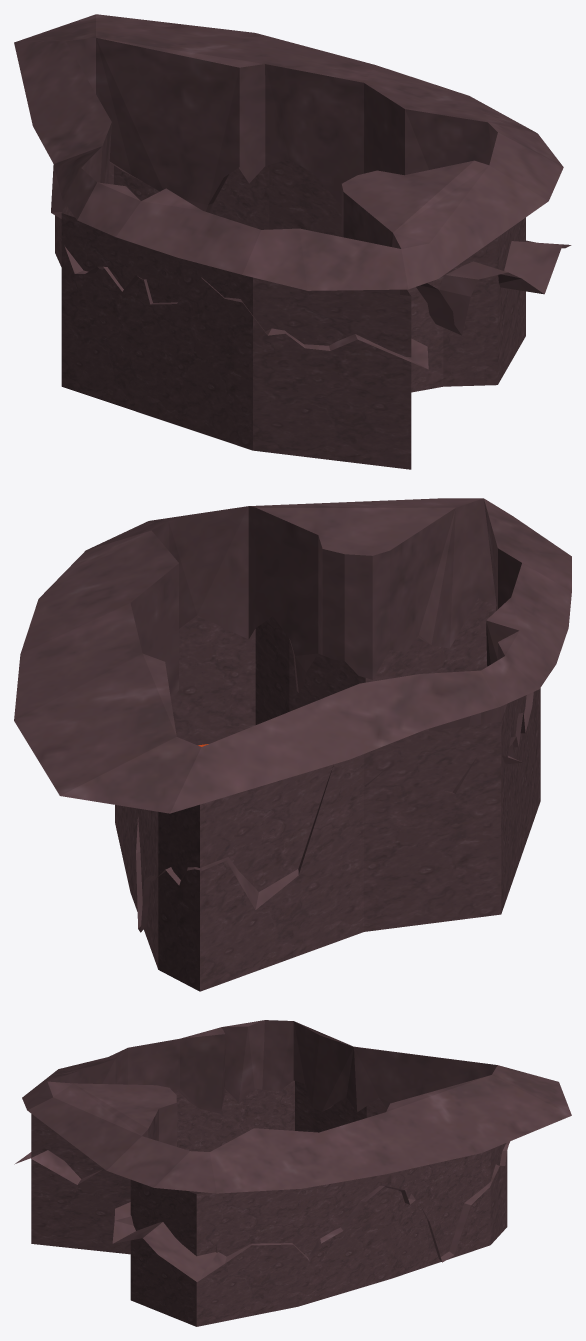
Rendered from yandong_01.FBX.
3 views of the same model, one above another, from view 1: azimuth 30°, elevation 25°; view 2: azimuth 150°, elevation 25°; view 3: azimuth 270°, elevation 25° (orthographic). The views are drawn at different scales.
Parts seen in each view (by area): view 1: yandong_01a, yandong_01b; view 2: yandong_01a, yandong_01b; view 3: yandong_01a, yandong_01b.
Boxes of the visible parts, x1=… form: yandong_01a: x1=14, y1=14, x2=571, y2=369; yandong_01b: x1=55, y1=159, x2=525, y2=469; yandong_01a: x1=14, y1=498, x2=571, y2=932; yandong_01b: x1=115, y1=598, x2=540, y2=991; yandong_01a: x1=14, y1=1020, x2=571, y2=1281; yandong_01b: x1=31, y1=1080, x2=507, y2=1326.
Size of the model in its own units: 992 by 464 by 1398.
